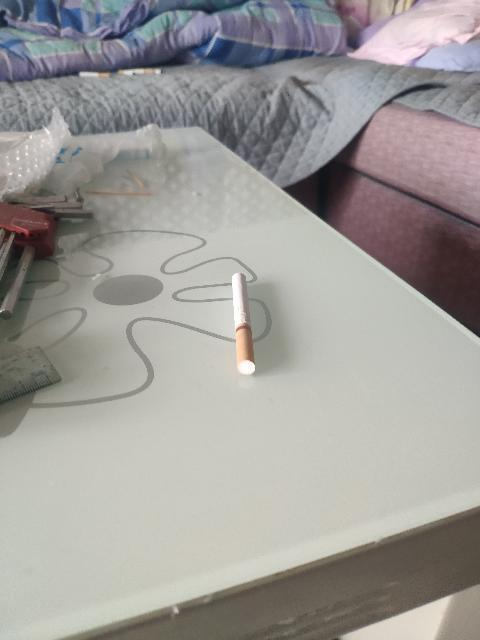Smoking: (231, 274, 256, 374)
